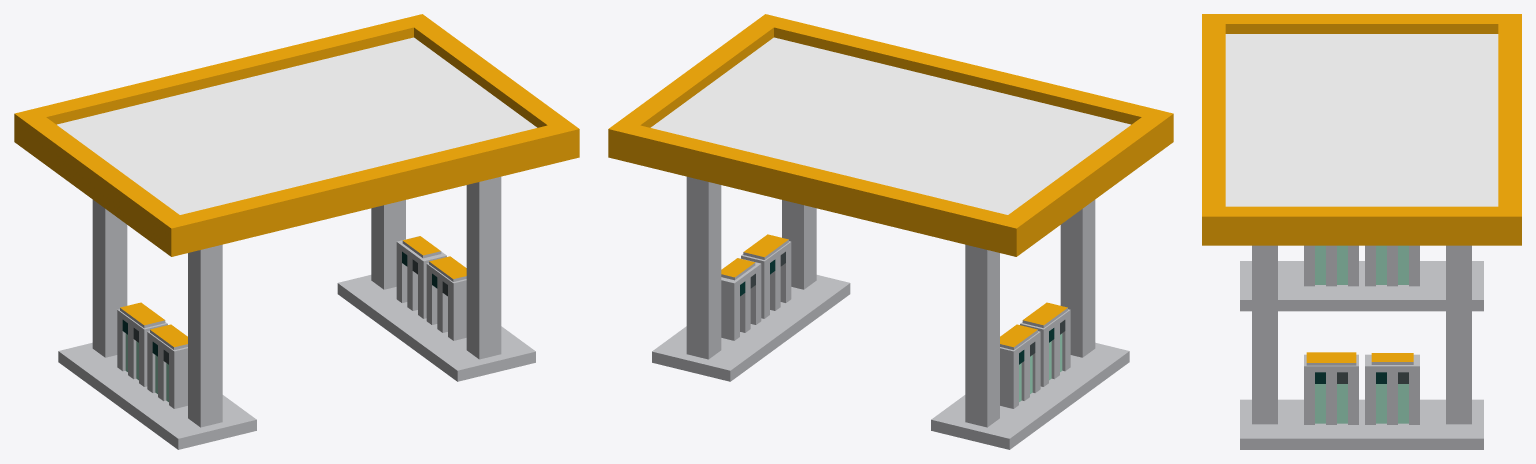
Rendered from gas_station_2.fbx.
The picture shows the model from 3 angles, left to right: view 1: azimuth 30°, elevation 25°; view 2: azimuth 150°, elevation 25°; view 3: azimuth 270°, elevation 25°; orthographic projection.
Visible parts, largest first — view 1: Cube; view 2: Cube; view 3: Cube.
Part boxes in pixels (x1,y1,x2,y2): Cube: (14,14,579,449); Cube: (608,14,1173,449); Cube: (1202,14,1521,449).
Bounding box in the file's own units: 1483 × 838 × 989.
